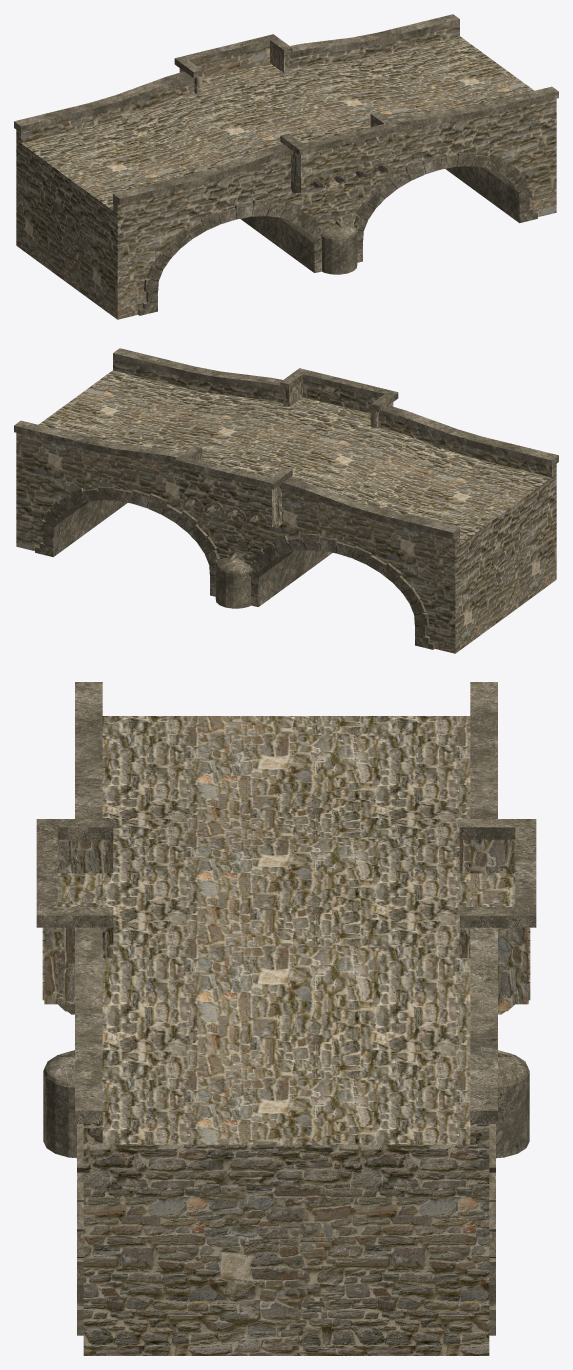
Rendered from Ponte.fbx.
3 renders of one model, top to bottom at view 1: azimuth 30°, elevation 25°; view 2: azimuth 150°, elevation 25°; view 3: azimuth 270°, elevation 25°, orthographic. The views are drawn at different scales.
Parts seen in each view (by area): view 1: main_Bridge, Side_Bridge, archi_ponte; view 2: main_Bridge, Side_Bridge, archi_ponte; view 3: main_Bridge, Side_Bridge, archi_ponte.
Boxes of the visible parts, box(x1,y1,x2,y2) form: main_Bridge: box(14, 14, 558, 319); Side_Bridge: box(174, 34, 398, 193); archi_ponte: box(138, 152, 537, 315); main_Bridge: box(14, 348, 558, 653); Side_Bridge: box(174, 368, 398, 527); archi_ponte: box(35, 486, 434, 649); main_Bridge: box(43, 682, 529, 1355); Side_Bridge: box(36, 819, 536, 1014); archi_ponte: box(77, 1124, 495, 1335).
Bounding box in the file's own units: 2000 × 597 × 986.
